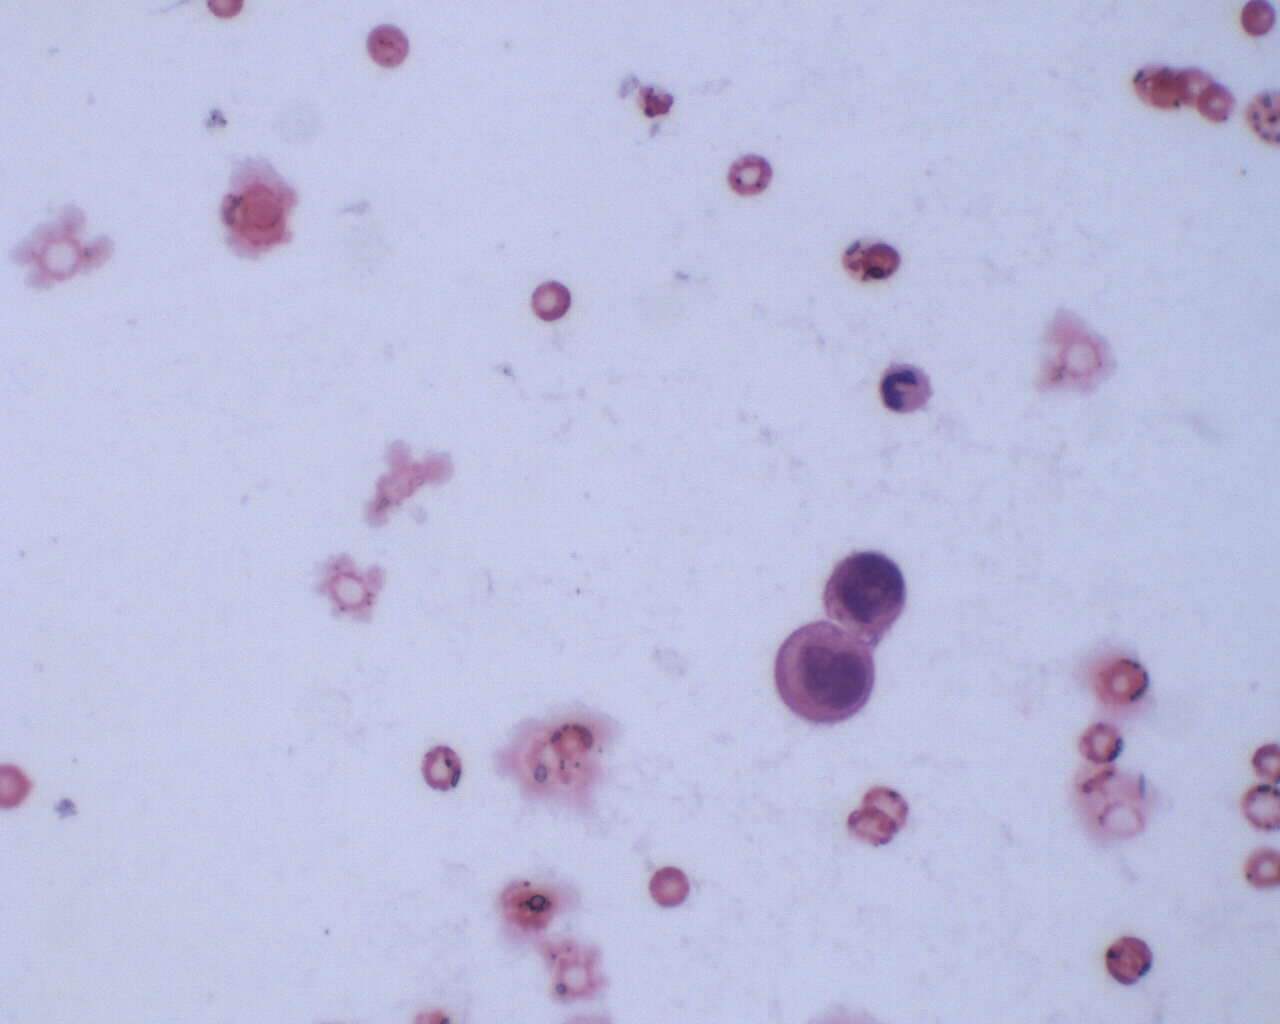ab: (769, 618, 877, 731), (821, 545, 907, 639)
neutro: (878, 355, 937, 420)
